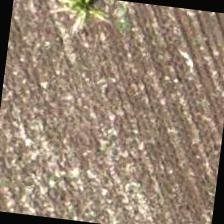Kelapa_Sawit: (38, 0, 134, 49)
